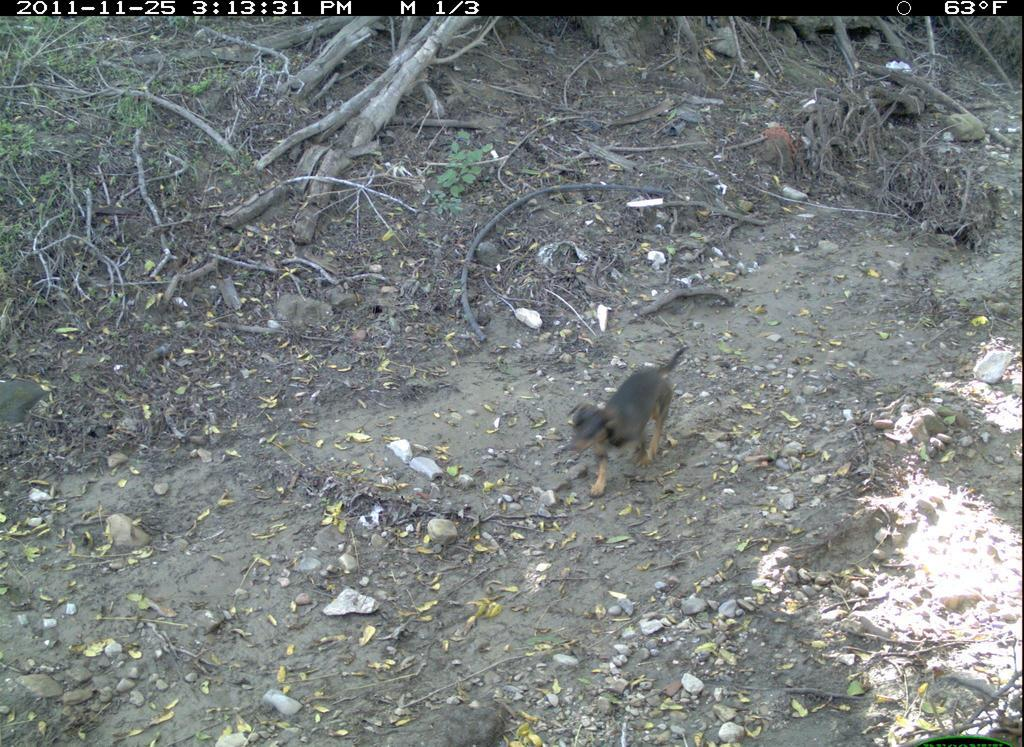dog: (556, 340, 690, 493)
